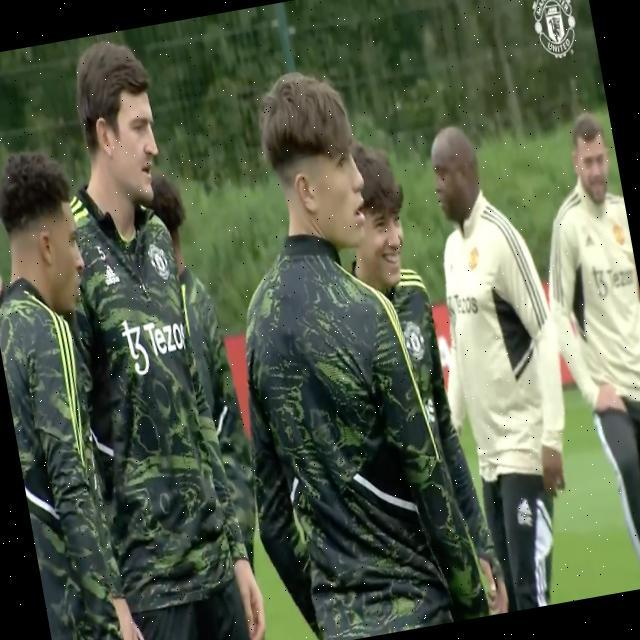Adidas: (102, 261, 122, 287), (515, 495, 535, 521)
